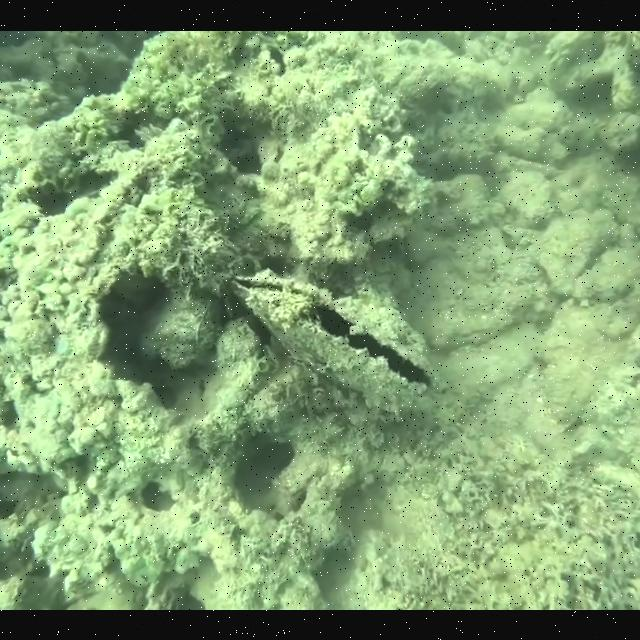Oyster-Open: (229, 266, 439, 410)
